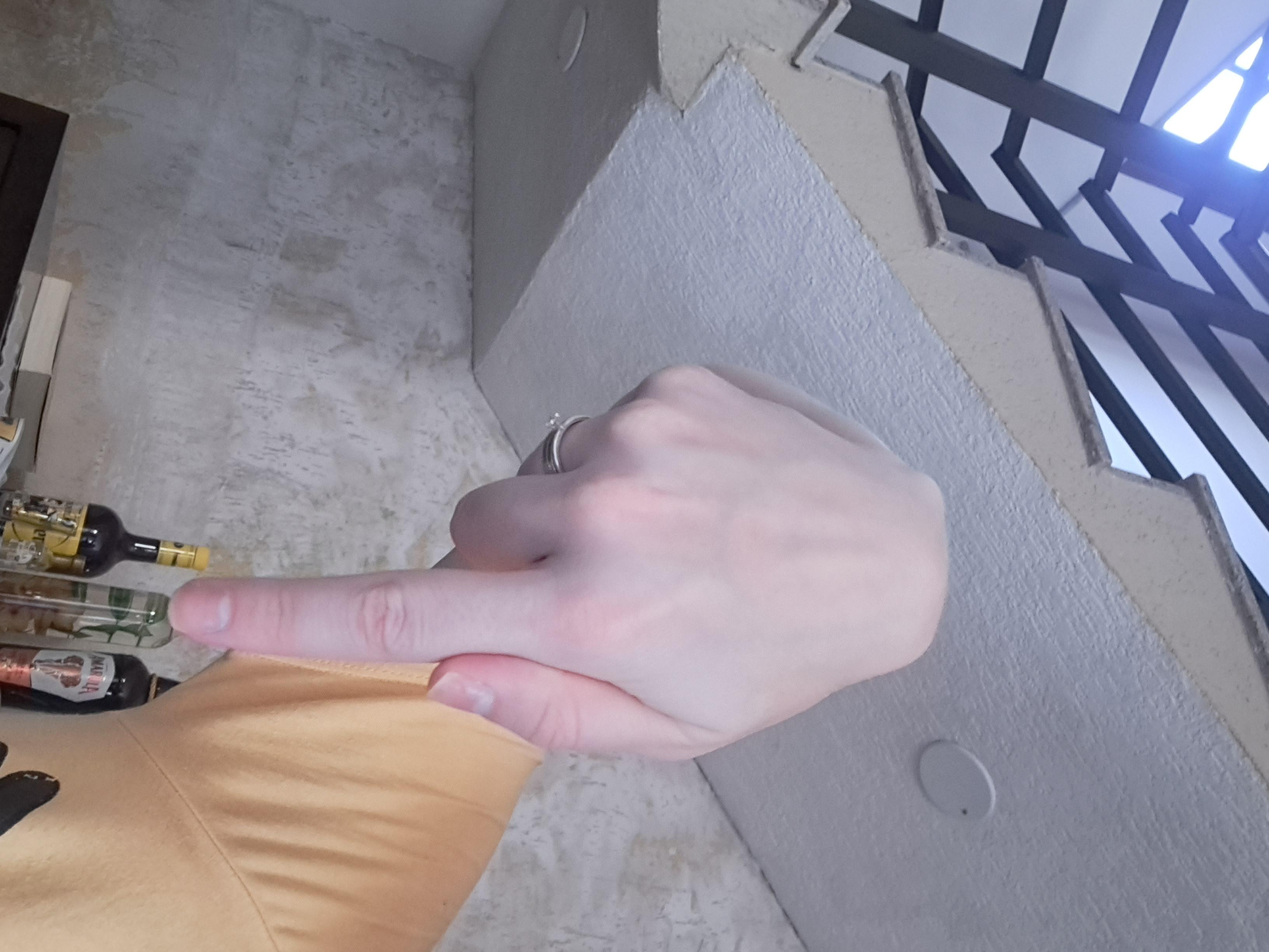Q: (508, 227, 1016, 825)
